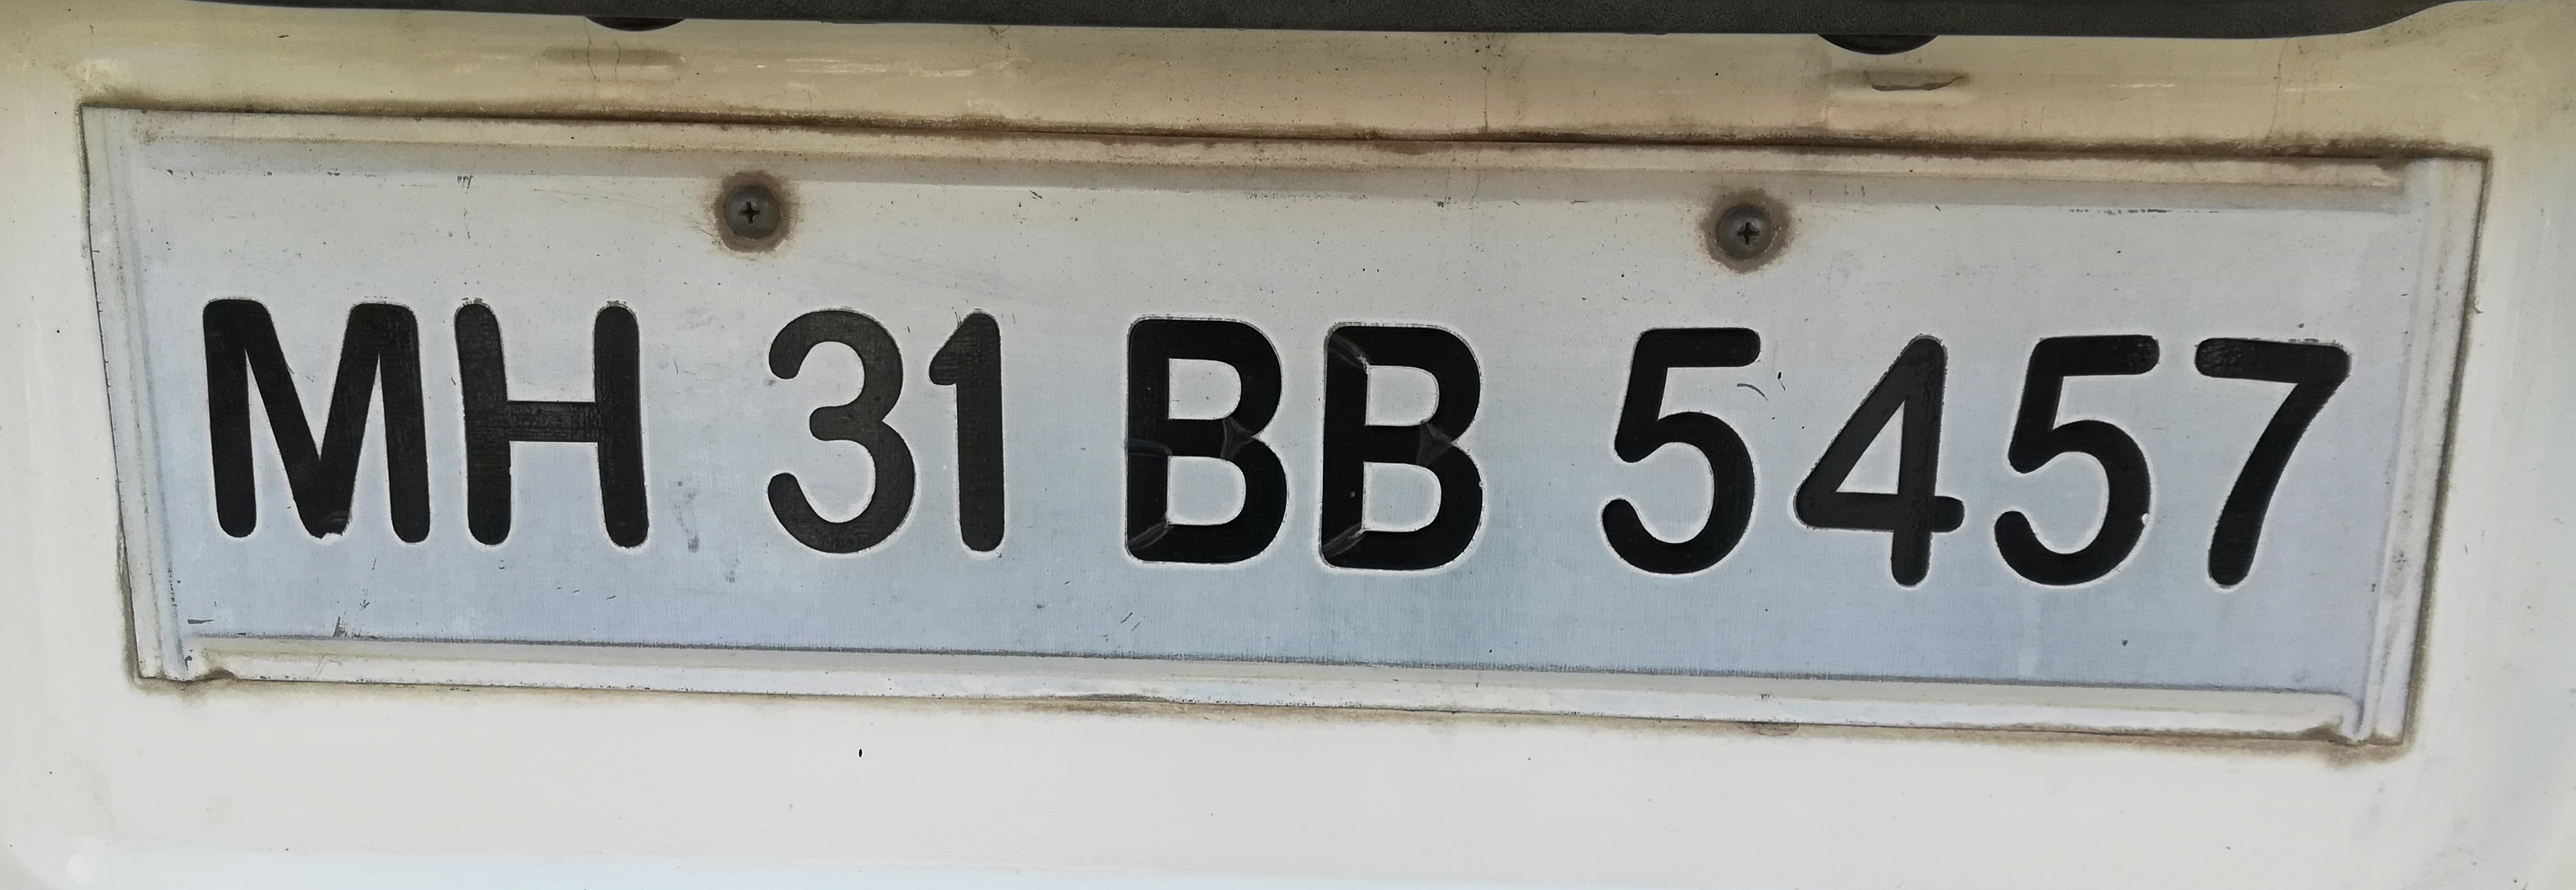numberplate: (72, 100, 2494, 745)
